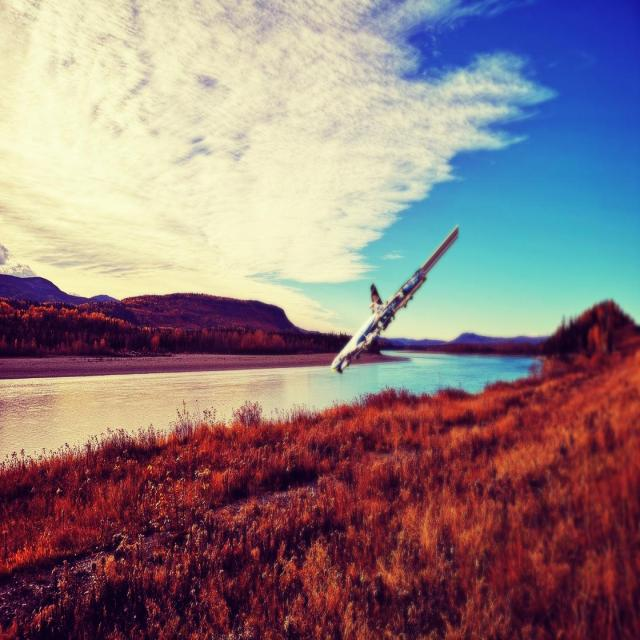airplane: (330, 224, 459, 373)
